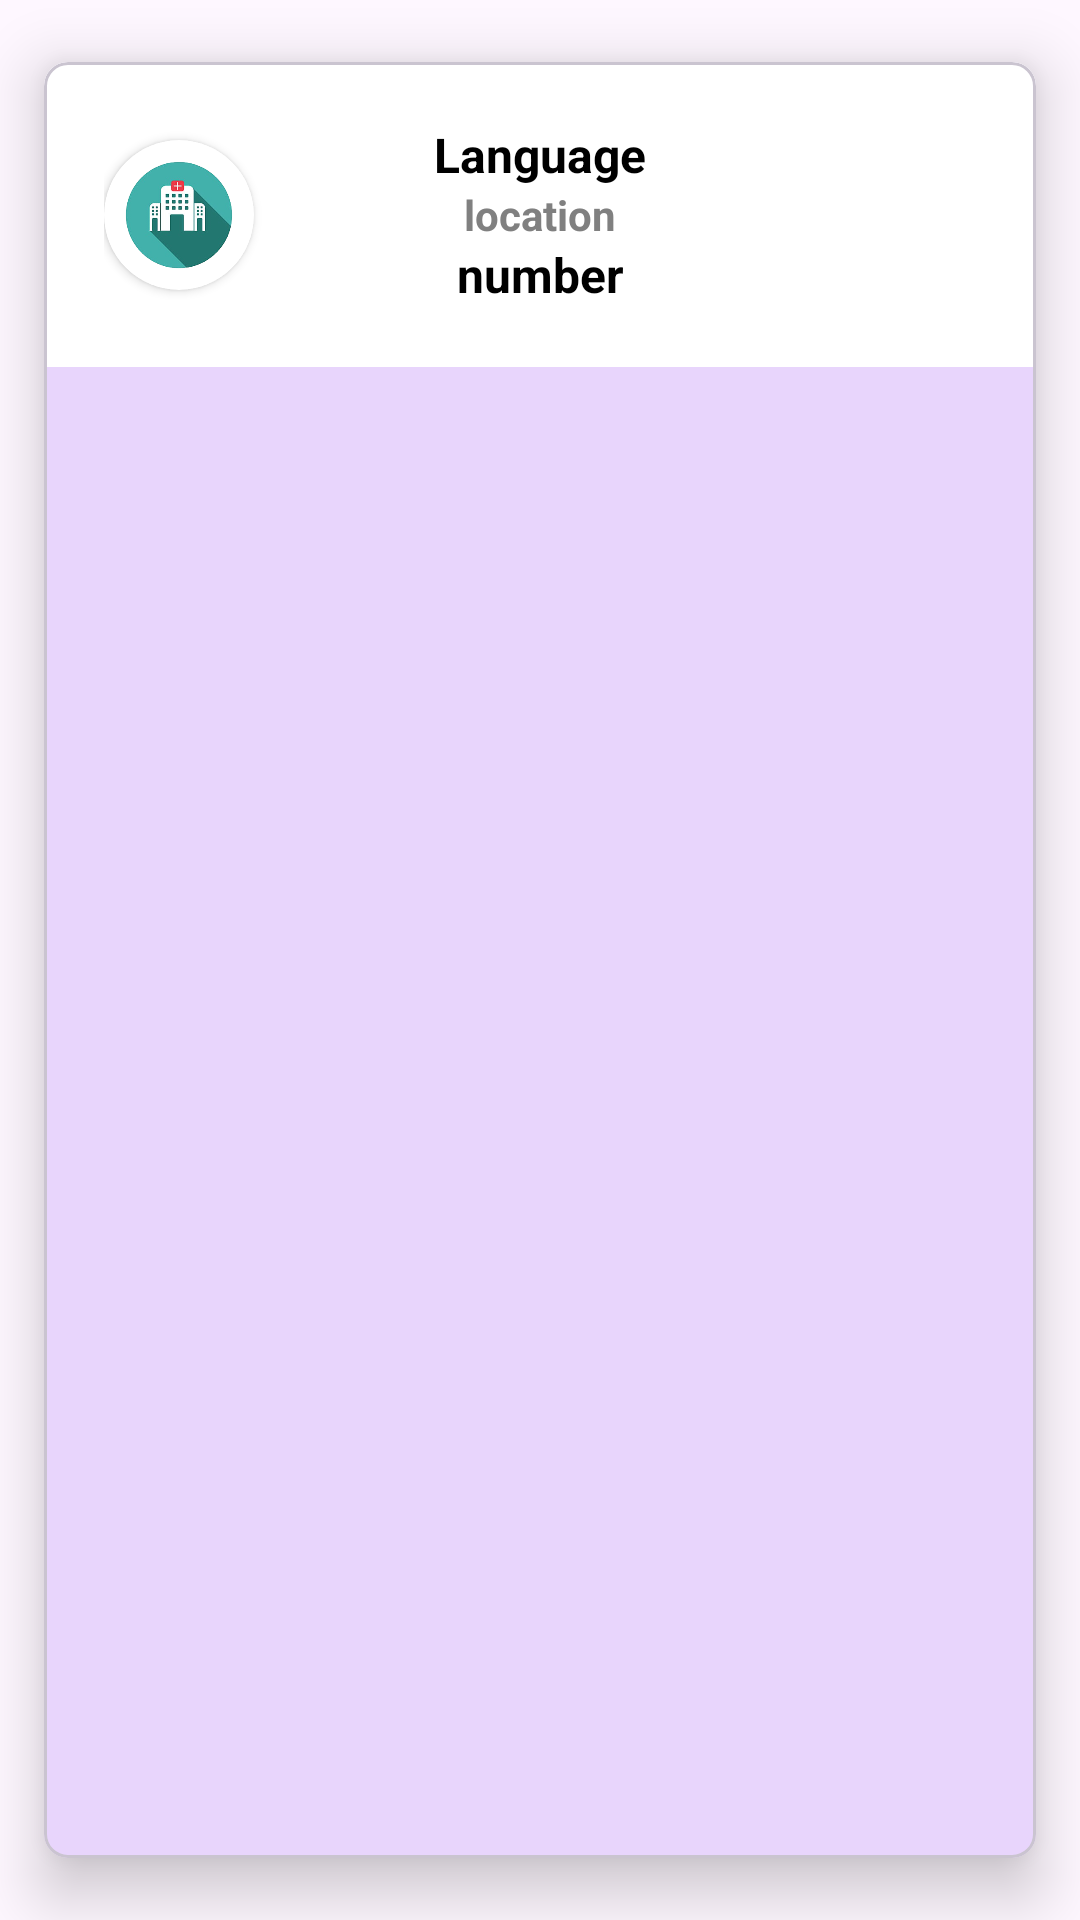

Screen size 1080px×1920px. Icon name, then its center in pixels as (x,y):
hospital: (168,220)
